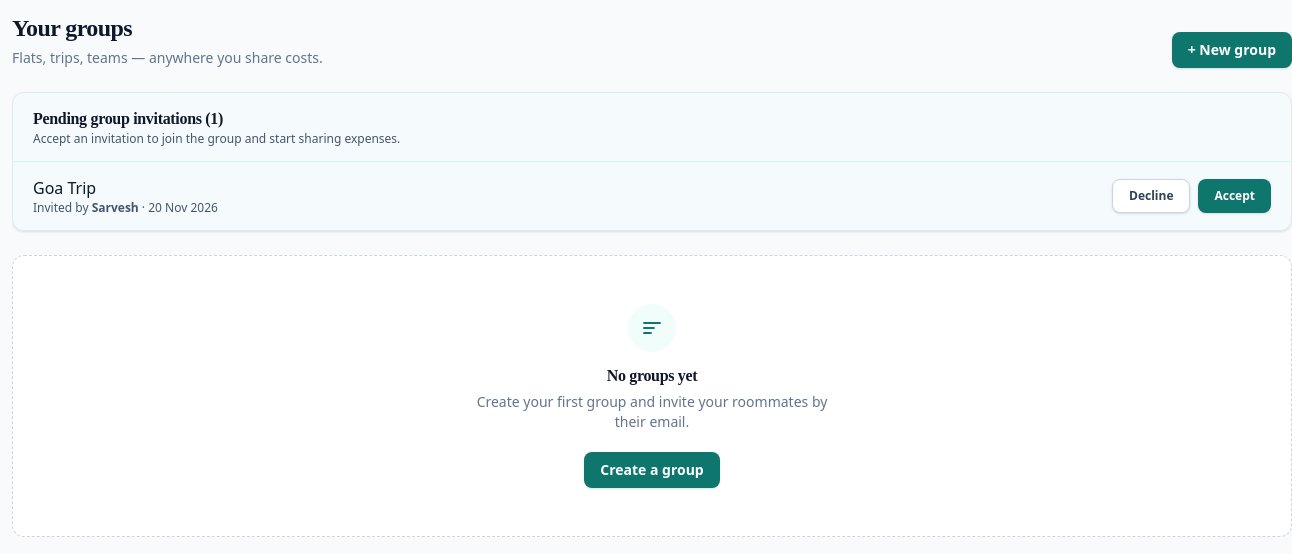
Test: GroupsPage invitations › shows pending invitations and accepts one on click
This screenshot has width=1292, height=554.
expect the heading "Pending group invitations (1)" is shown: met, box x1=33 y1=110 x2=223 y2=127
expect the text "Goa Trip" is shown: met, box x1=33 y1=177 x2=96 y2=199
Click the button "Accept": (1235, 196) x1=1198 y1=179 x2=1271 y2=213
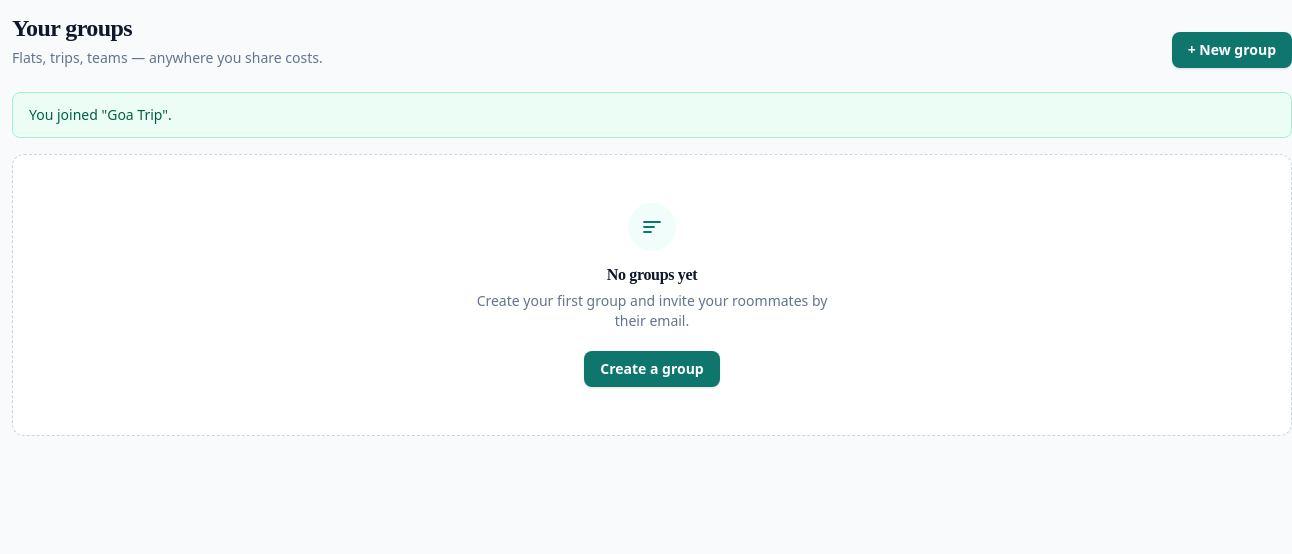
expect the message reads "You joined \"Goa Trip\".": met, box x1=29 y1=105 x2=172 y2=124
